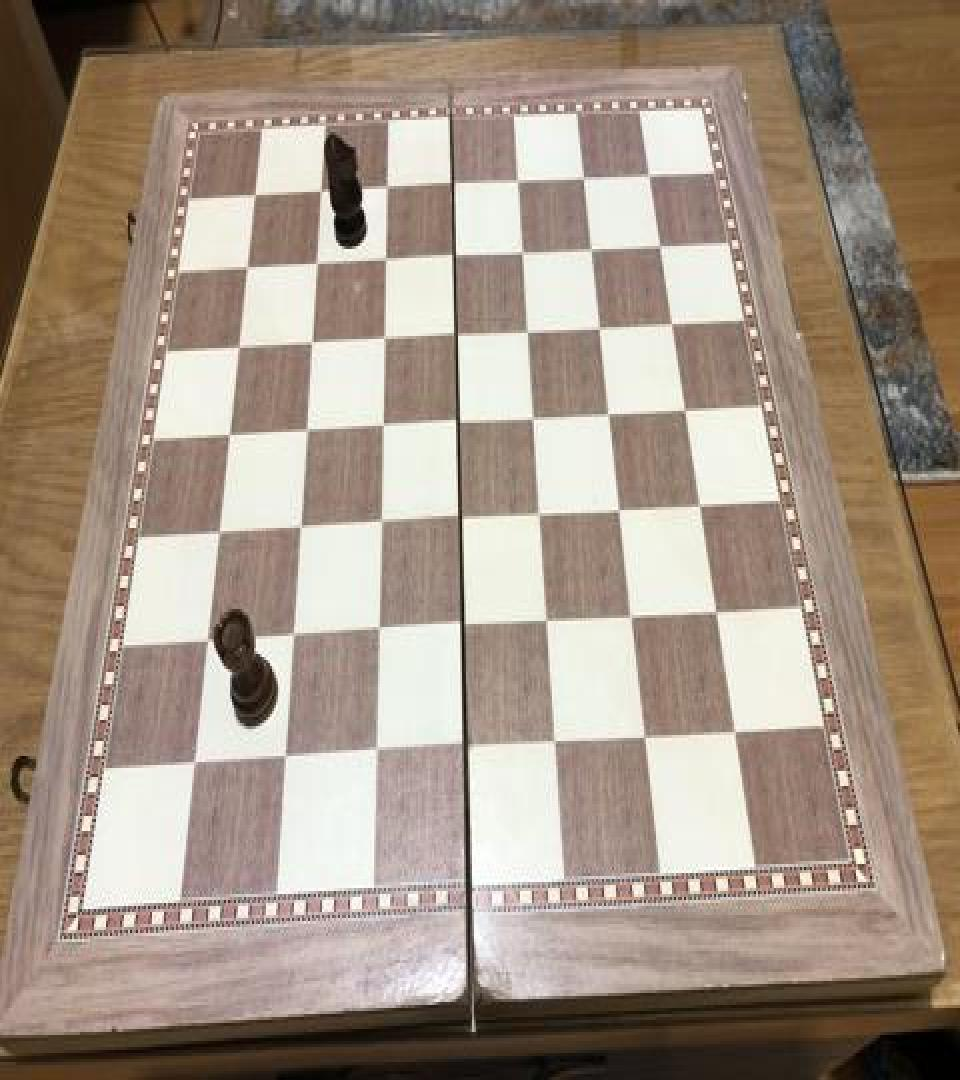xcorner: (277, 742, 301, 779), (186, 748, 210, 785), (640, 158, 664, 194), (575, 162, 599, 198), (509, 165, 533, 201), (444, 170, 468, 206), (312, 177, 336, 213), (246, 180, 270, 216), (651, 228, 675, 264), (582, 232, 606, 268), (514, 237, 538, 273), (445, 240, 469, 276), (376, 244, 400, 280), (307, 249, 331, 285), (238, 254, 262, 290), (662, 306, 686, 342), (591, 310, 615, 346), (519, 315, 543, 351), (447, 320, 471, 356), (375, 324, 399, 360), (230, 333, 254, 369), (676, 392, 700, 428), (600, 396, 624, 432), (525, 400, 549, 436), (449, 406, 473, 442), (373, 411, 397, 447), (297, 416, 321, 452), (220, 420, 244, 456), (690, 486, 714, 522), (611, 492, 635, 528), (531, 496, 555, 532), (451, 502, 475, 538), (371, 507, 395, 543), (291, 513, 315, 549), (210, 518, 234, 554), (706, 592, 730, 628), (622, 598, 646, 634), (538, 603, 562, 639), (454, 609, 478, 645), (369, 615, 393, 651), (284, 621, 308, 657), (199, 627, 223, 663), (724, 711, 748, 747), (635, 717, 659, 753), (546, 723, 570, 759), (457, 729, 481, 765), (367, 736, 391, 772), (378, 173, 402, 208), (302, 329, 326, 364)
